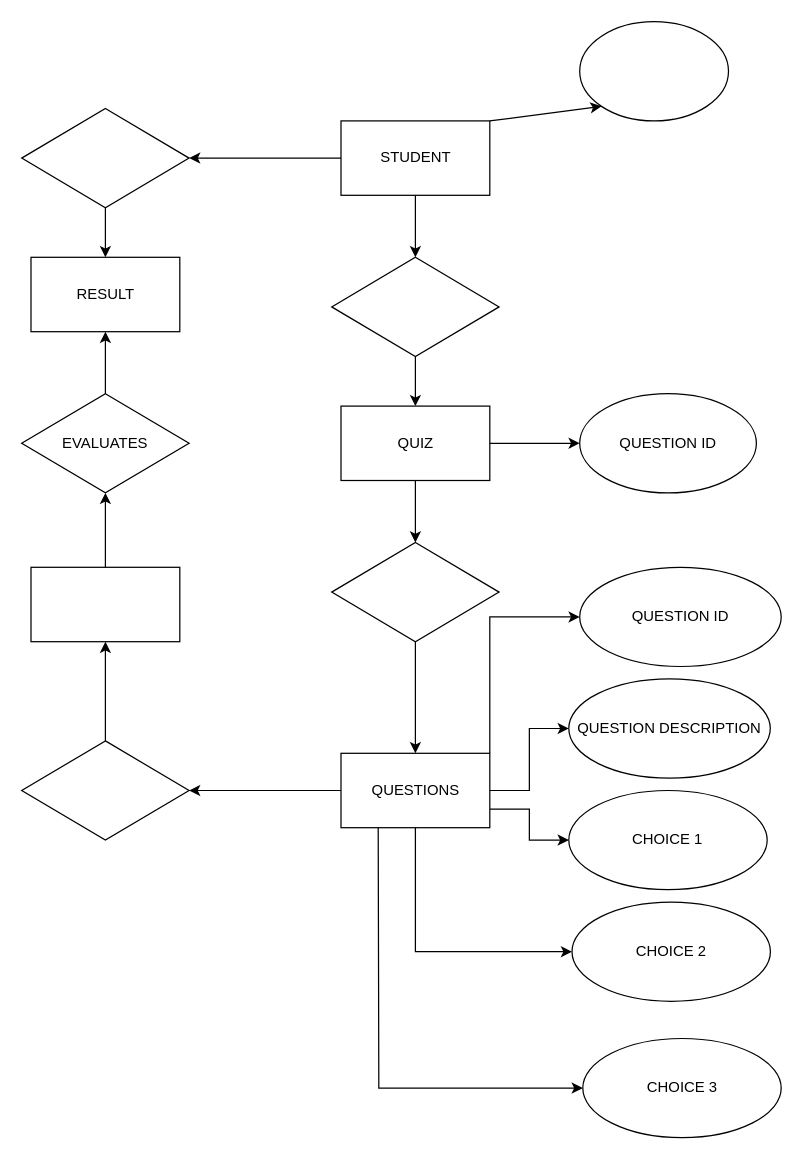
Some shapes in this 804 by 1159 pixel diagram are drawn without their labels. Each missing label, with the centre of its shape:
ANSWERS: the point at 105,604
CONTAINS: the point at 414,591
GETS: the point at 104,157
HAS: the point at 104,790
STUDENT NAME: the point at 653,70
TAKES: the point at 414,306
